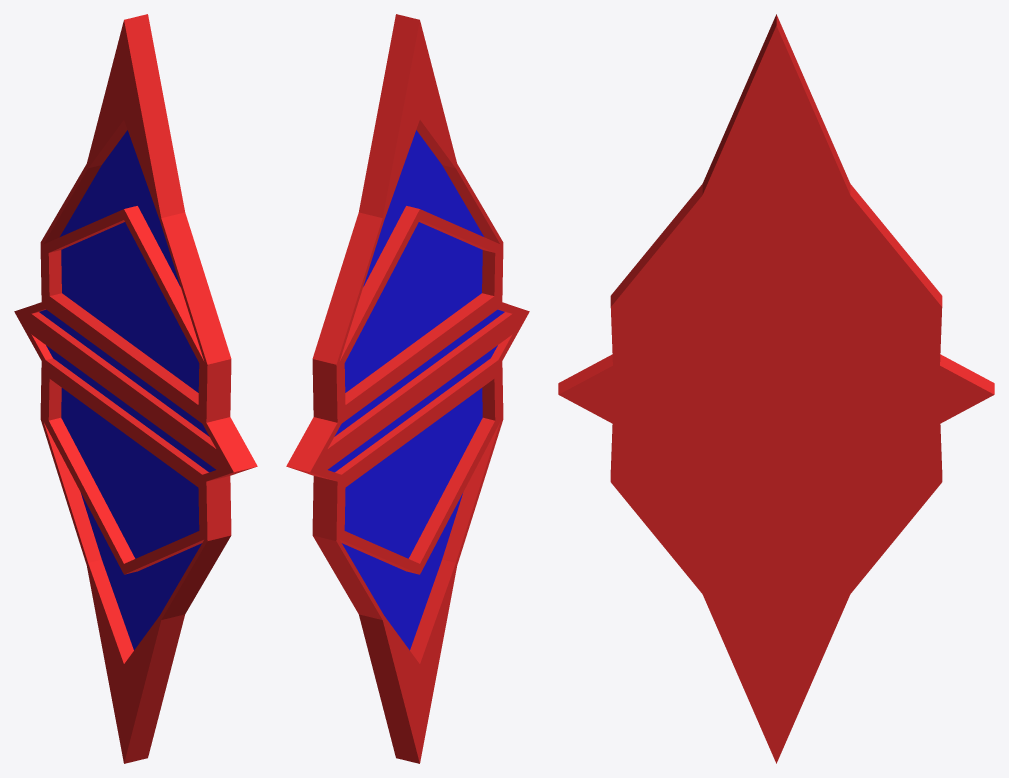
Rendered from RunaPuerta 1.FBX.
The picture shows the model from 3 angles, left to right: view 1: azimuth 30°, elevation 25°; view 2: azimuth 150°, elevation 25°; view 3: azimuth 270°, elevation 25°; orthographic projection.
Parts seen in each view (by area): view 1: Runa, Object008; view 2: Runa, Object008; view 3: Runa.
Part boxes in pixels (x1,y1,x2,y2): Runa: (14, 14, 257, 763); Object008: (39, 130, 215, 650); Runa: (286, 14, 529, 763); Object008: (328, 130, 504, 650); Runa: (558, 14, 994, 763).
Size of the model in its own units: 0.8667 by 25.73 by 13.77.
